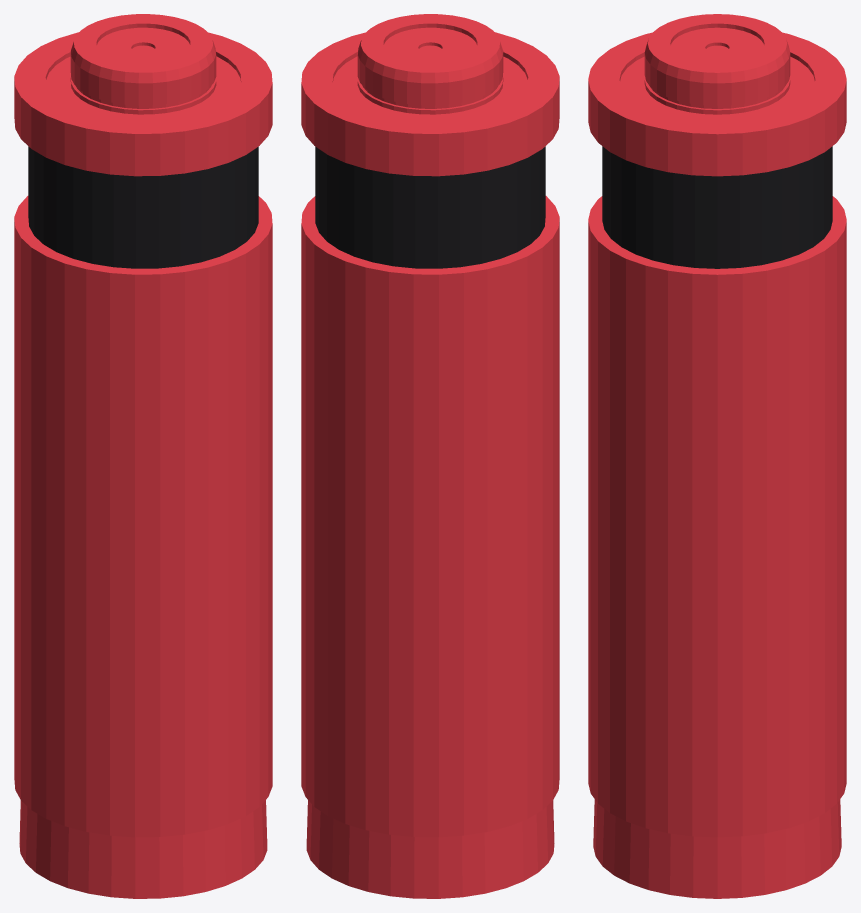
The model's file is Termo.glb.
The picture shows the model from 3 angles, left to right: view 1: azimuth 30°, elevation 25°; view 2: azimuth 150°, elevation 25°; view 3: azimuth 270°, elevation 25°; orthographic projection.
Visible parts, largest first — view 1: Cylinder; view 2: Cylinder; view 3: Cylinder.
Boxes of the visible parts, left/top/right/bottom form: Cylinder: left=14, top=14, right=272, bottom=898; Cylinder: left=301, top=14, right=559, bottom=898; Cylinder: left=588, top=14, right=846, bottom=898.
Size of the model in its own units: 0.24 by 0.8222 by 0.24.
1 material, 1 textured.
